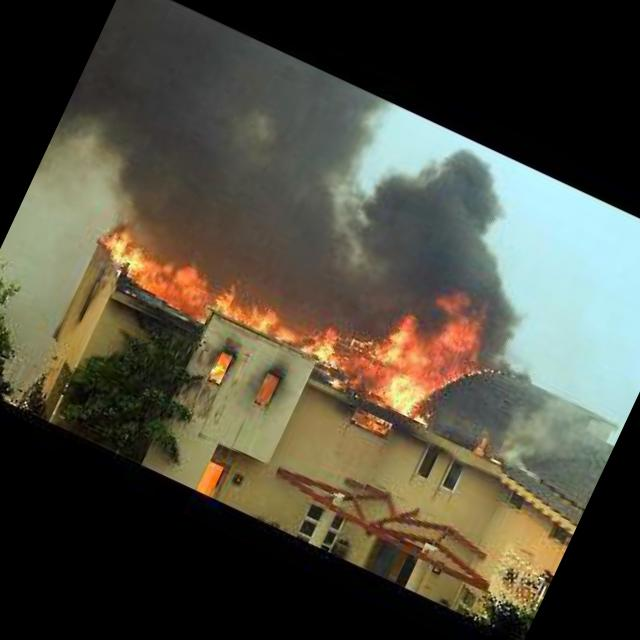fire: (91, 218, 457, 430), (361, 272, 499, 432), (352, 409, 388, 436), (476, 436, 504, 464), (210, 357, 230, 382)
smoke: (72, 0, 585, 357)
